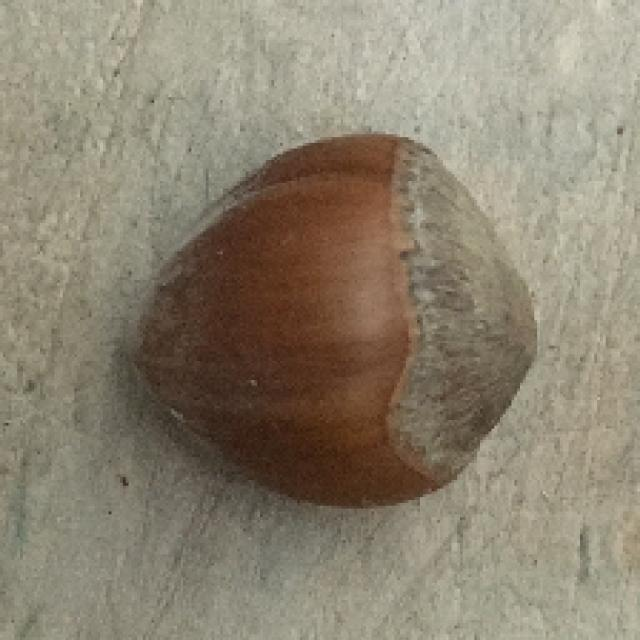qualityHazelnut: (121, 124, 540, 512)
